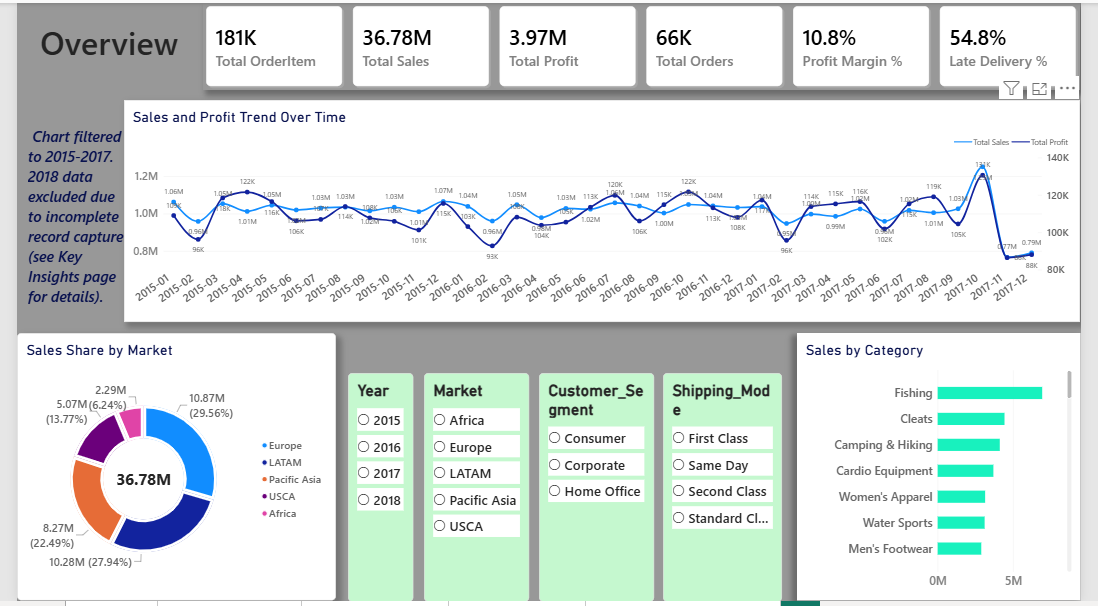

The dashboard page shown, as its layout file describes it:
{"tool":"powerbi","page":{"name":"Overview","canvas":[1920,1080],"ordinal":0},"visuals":[{"type":"cardVisual","fields":{"Data":["Measure Table.Total OrderItem","Measure Table.Total Sales","Measure Table.Total Profit","Measure Table.Total Orders","Measure Table.Profit Margin %","Measure Table.Late Delivery %"]},"box":[336.5,0,1583.5,156.9],"z":0},{"type":"lineChart","title":"Sales and Profit Trend Over Time ","fields":{"Category":["Dim_Date.Year-Month"],"Y":["Measure Table.Total Sales"],"Y2":["Measure Table.Total Profit"]},"box":[194.1,175.5,1725.9,400.5],"z":1000},{"type":"clusteredBarChart","title":"Sales by Category","fields":{"Y":["Measure Table.Total Sales"],"Category":["Dim_Product.Category_Name"]},"box":[1408,596.6,512,483.1],"z":2000},{"type":"donutChart","title":"Sales Share by Market","fields":{"Category":["Fact_Orders.Market"],"Y":["Measure Table.Total Sales"]},"box":[0,596.6,576,483.1],"z":3000},{"type":"textbox","box":[20,222.5,175,337.5],"z":4000},{"type":"listSlicer","fields":{"Values":["Dim_Date.Year"]},"box":[597.5,667.5,117.5,412.5],"z":5000},{"type":"listSlicer","fields":{"Values":["Fact_Orders.Market"]},"box":[735,667.5,190,412.5],"z":6000},{"type":"listSlicer","fields":{"Values":["Dim_Customer.Customer_Segment"]},"box":[942.5,667.5,207.5,412.5],"z":7000},{"type":"listSlicer","fields":{"Values":["Fact_Orders.Shipping_Mode"]},"box":[1167.5,667.5,215,412.5],"z":8000},{"type":"textbox","box":[0,31,313.8,109.4],"z":9000}]}

Visuals, with their boxes in screenshot pixels (x1, y1, x2, y2), scaled from the page's 1920x1080 canvas onto the 1098x606 screenshot:
cardVisual - Measure Table.Total OrderItem x Measure Table.Total Sales: bbox=(192, 0, 1097, 88)
"Sales and Profit Trend Over Time " lineChart: bbox=(111, 98, 1097, 323)
"Sales by Category" clusteredBarChart: bbox=(805, 335, 1097, 605)
"Sales Share by Market" donutChart: bbox=(0, 335, 329, 605)
textbox: bbox=(11, 125, 112, 314)
listSlicer - Dim_Date.Year: bbox=(342, 375, 409, 605)
listSlicer - Fact_Orders.Market: bbox=(420, 375, 529, 605)
listSlicer - Dim_Customer.Customer_Segment: bbox=(539, 375, 658, 605)
listSlicer - Fact_Orders.Shipping_Mode: bbox=(668, 375, 791, 605)
textbox: bbox=(0, 17, 179, 79)
